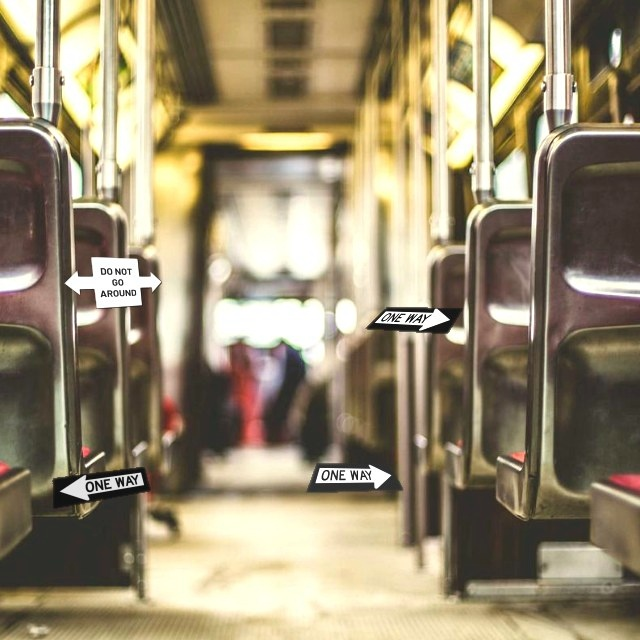DO_NOT_GO_AROUND: (63, 256, 162, 309)
ONE_WAY_ left: (52, 466, 151, 509)
ONE_WAY_ right: (305, 462, 404, 493), (364, 306, 463, 334)
